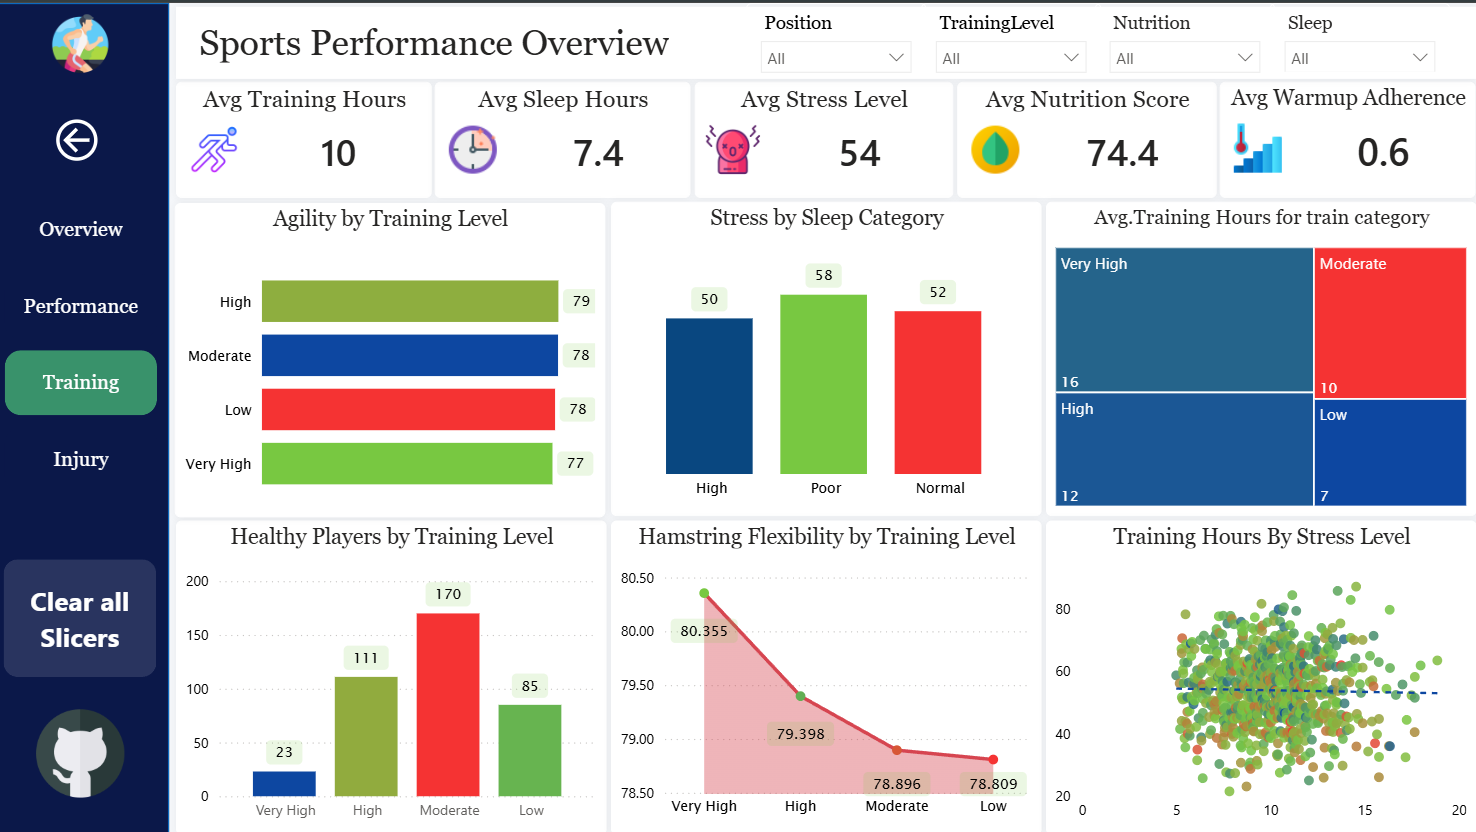

The dashboard page shown, as its layout file describes it:
{"tool":"powerbi","page":{"name":"Training","canvas":[1280,720],"ordinal":2},"visuals":[{"type":"cardVisual","title":"Avg Training Hours","fields":{"Data":["All Measures.Avg Training"]},"box":[159.3,68,220,100],"z":0},{"type":"cardVisual","title":"Avg Sleep Hours","fields":{"Data":["All Measures.Avg Sleep"]},"box":[382,67.4,220,100],"z":1000},{"type":"cardVisual","title":"Avg Stress Level","fields":{"Data":["All Measures.Avg Stress Level"]},"box":[605.8,67.4,222,100],"z":2000},{"type":"cardVisual","title":"Avg Nutrition Score","fields":{"Data":["All Measures.Avg Nutrition Score"]},"box":[831,67.4,223,100],"z":3000},{"type":"cardVisual","title":"Avg Warmup Adherence","fields":{"Data":["All Measures.Avg Warmup Adherence"]},"box":[1057,67.4,220,100],"z":4000},{"type":"shape","box":[0,0,153.2,720.2],"z":5000},{"type":"shape","box":[159.3,3.6,1118.4,62],"z":6000},{"type":"slicer","title":"Training Level Distribution","fields":{"Values":["Dim_Position.Position"]},"box":[650,0,155,63.9],"z":7000},{"type":"slicer","title":"Training Level Distribution","fields":{"Values":["Dim_TrainingLevel.TrainingLevel"]},"box":[800,0,155,62.7],"z":8000},{"type":"slicer","title":"Training Level Distribution","fields":{"Values":["Dim_Nutrition.Nutrition_Category"]},"box":[950,0,155,63.9],"z":9000},{"type":"slicer","title":"Training Level Distribution","fields":{"Values":["Dim_SleepCategory.Sleep_Category"]},"box":[1100,0,155,60.3],"z":10000},{"type":"columnChart","title":"Healthy Players by Training Level","fields":{"Category":["Dim_TrainingLevel.TrainingLevel"],"Y":["All Measures.Healthy Players"]},"box":[159,445,370,270],"z":11000},{"type":"columnChart","title":"Stress by Sleep Category","fields":{"Category":["Dim_SleepCategory.Sleep_Category"],"Y":["All Measures.Avg Stress Level"]},"box":[533.2,171,370,270],"z":12000},{"type":"treemap","title":"Avg.Training Hours for train category","fields":{"Group":["Dim_TrainingLevel.TrainingLevel"],"Values":["All Measures.Avg Training Hours"]},"box":[907.2,171.3,370,270],"z":13000},{"type":"areaChart","title":"Hamstring Flexibility by Training Level","fields":{"Category":["Dim_TrainingLevel.TrainingLevel"],"Y":["All Measures.Avg Hamstring Flexibility"]},"box":[533,445,370,270],"z":14000},{"type":"image","box":[14,9.3,125.6,50],"z":15000},{"type":"clusteredBarChart","title":"Agility by Training Level","fields":{"Category":["Dim_TrainingLevel.TrainingLevel"],"Y":["All Measures.Avg Agility"]},"box":[157.8,171.8,370,270],"z":16000},{"type":"scatterChart","title":"Training Hours By Stress Level","fields":{"X":["Fact_PlayerPerformance.Training_Hours_Per_Week"],"Y":["Fact_PlayerPerformance.Stress_Level_Score"]},"box":[907.4,445.4,370,270],"z":17000},{"type":"pageNavigator","box":[12.3,166.9,131.5,257],"z":18000},{"type":"actionButton","box":[50.3,94.5,57.7,46.6],"z":19000},{"type":"actionButton","box":[0,489.6,153.4,50.3],"z":20000},{"type":"image","box":[35.6,592.6,85.9,93.3],"z":21000}]}

Visuals, with their boxes on the page's 1280x720 design canvas (x1, y1, x2, y2). These are canvas units, not pixel positions in the 1476x832 screenshot, which may show the page scaled, cropped or inside an application window:
"Avg Training Hours" cardVisual: rect(159, 68, 379, 168)
"Avg Sleep Hours" cardVisual: rect(382, 67, 602, 167)
"Avg Stress Level" cardVisual: rect(606, 67, 828, 167)
"Avg Nutrition Score" cardVisual: rect(831, 67, 1054, 167)
"Avg Warmup Adherence" cardVisual: rect(1057, 67, 1277, 167)
shape: rect(0, 0, 153, 720)
shape: rect(159, 4, 1278, 66)
"Training Level Distribution" slicer: rect(650, 0, 805, 64)
"Training Level Distribution" slicer: rect(800, 0, 955, 63)
"Training Level Distribution" slicer: rect(950, 0, 1105, 64)
"Training Level Distribution" slicer: rect(1100, 0, 1255, 60)
"Healthy Players by Training Level" columnChart: rect(159, 445, 529, 715)
"Stress by Sleep Category" columnChart: rect(533, 171, 903, 441)
"Avg.Training Hours for train category" treemap: rect(907, 171, 1277, 441)
"Hamstring Flexibility by Training Level" areaChart: rect(533, 445, 903, 715)
image: rect(14, 9, 140, 59)
"Agility by Training Level" clusteredBarChart: rect(158, 172, 528, 442)
"Training Hours By Stress Level" scatterChart: rect(907, 445, 1277, 715)
pageNavigator: rect(12, 167, 144, 424)
actionButton: rect(50, 94, 108, 141)
actionButton: rect(0, 490, 153, 540)
image: rect(36, 593, 122, 686)
